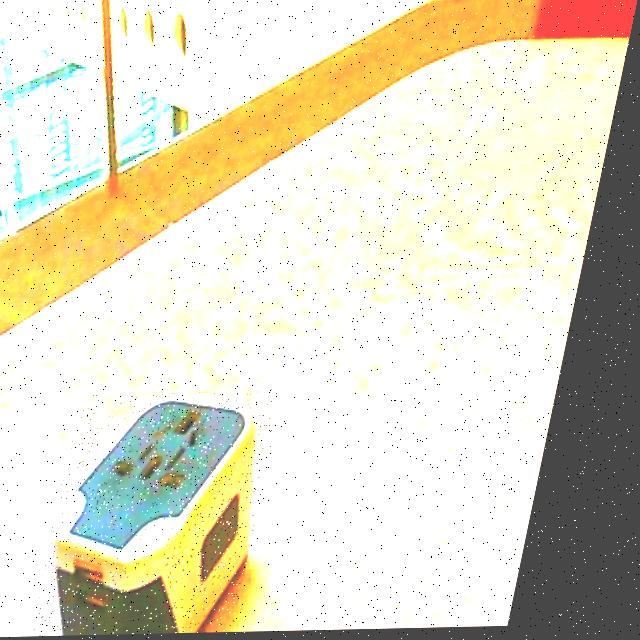adapter: (57, 391, 300, 637)
